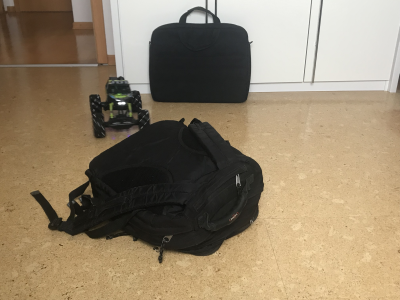remote control car: (86, 74, 152, 139)
